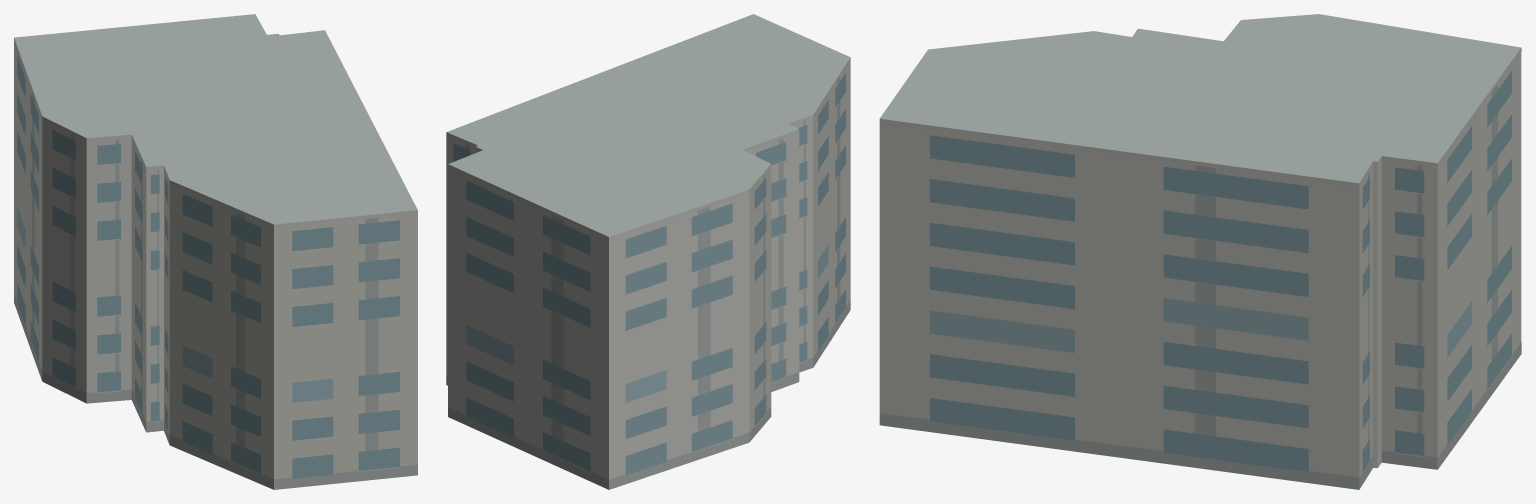
Rendered from survey-upis-32800116.glb.
3 renders of one model, left to right at view 1: azimuth 30°, elevation 25°; view 2: azimuth 150°, elevation 25°; view 3: azimuth 270°, elevation 25°, orthographic. The views are drawn at different scales.
Visible parts, largest first — view 1: survey-upis-32800116.tmp; view 2: survey-upis-32800116.tmp; view 3: survey-upis-32800116.tmp.
Part boxes in pixels (<box>): survey-upis-32800116.tmp: <box>14,14,417,489</box>; survey-upis-32800116.tmp: <box>446,14,850,489</box>; survey-upis-32800116.tmp: <box>879,14,1521,489</box>.
Size of the model in its own units: 22.04 by 18.6 by 35.3.
